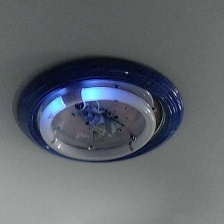light_bulb: (35, 83, 161, 168)
